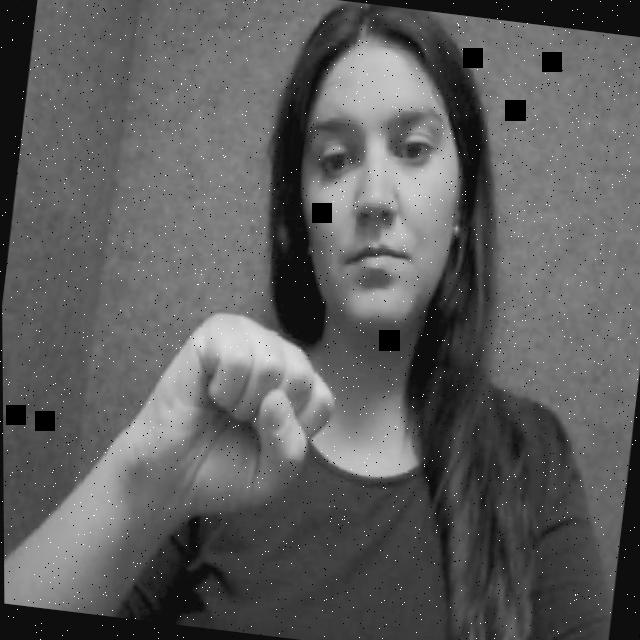Rock: (133, 294, 343, 530)
